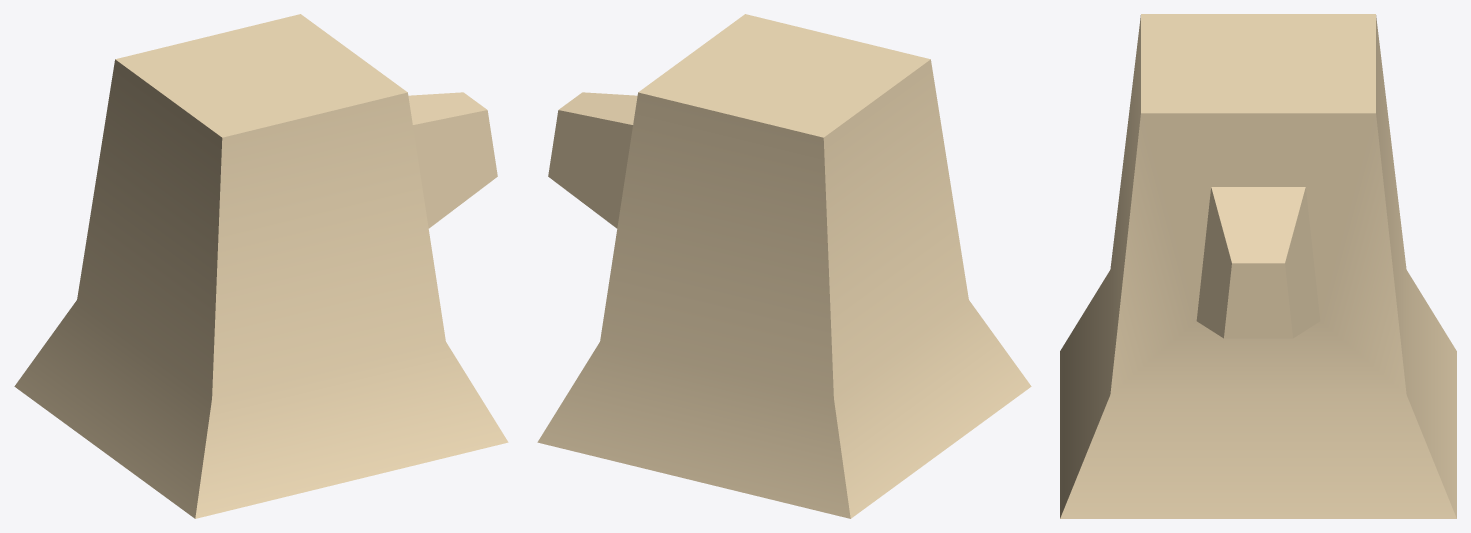
Rendered from naturePack_086.fbx.
3 renders of one model, left to right at view 1: azimuth 30°, elevation 25°; view 2: azimuth 150°, elevation 25°; view 3: azimuth 270°, elevation 25°, orthographic. The views are drawn at different scales.
Visible parts, largest first — view 1: naturePack_086; view 2: naturePack_086; view 3: naturePack_086.
Part boxes in pixels (x1=…): naturePack_086: x1=14, y1=14, x2=508, y2=518; naturePack_086: x1=537, y1=14, x2=1031, y2=518; naturePack_086: x1=1060, y1=14, x2=1456, y2=518.
Size of the model in its own units: 96.75 by 83 by 80.37.
